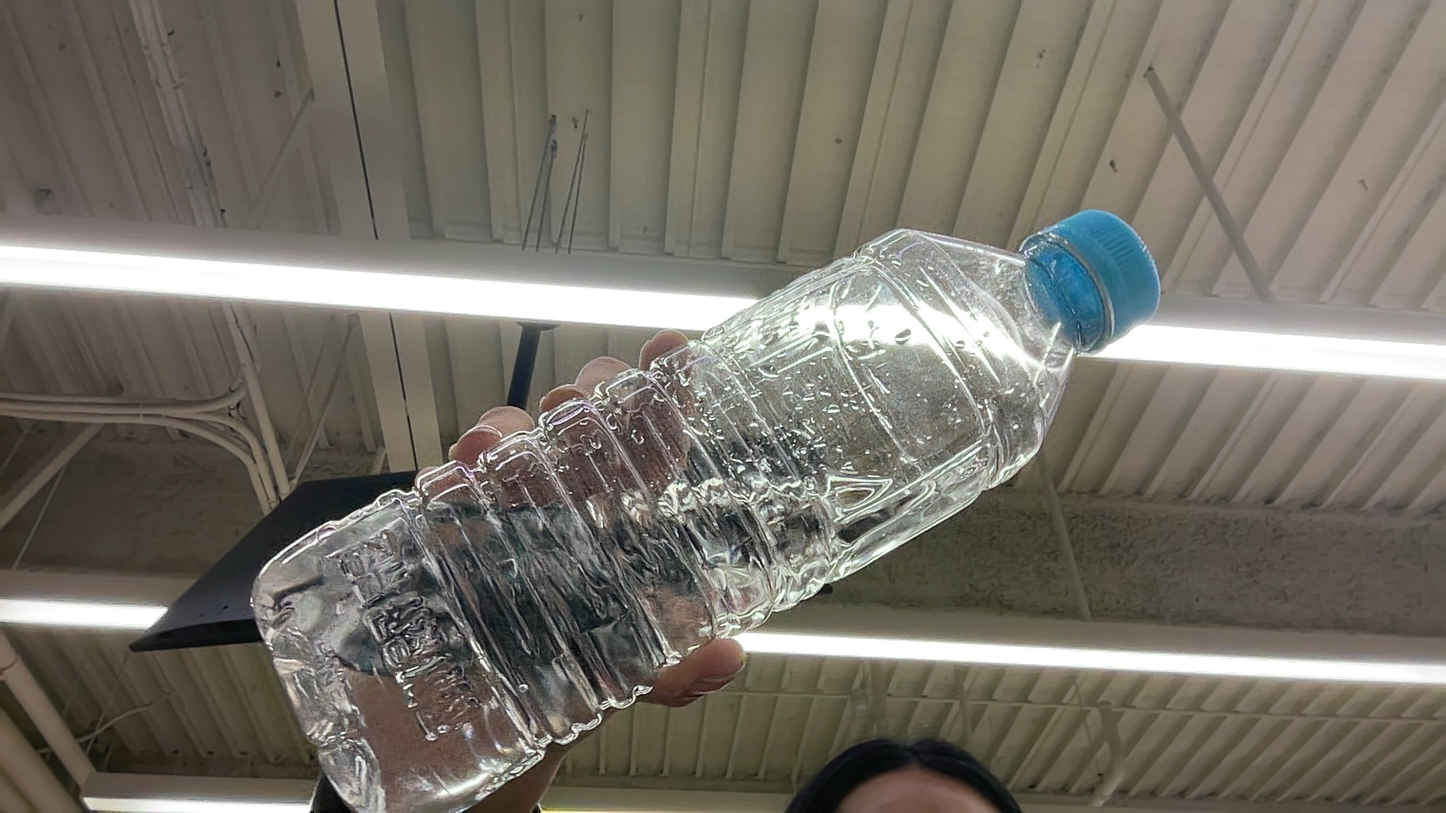Plastic: (2, 404, 279, 612)
